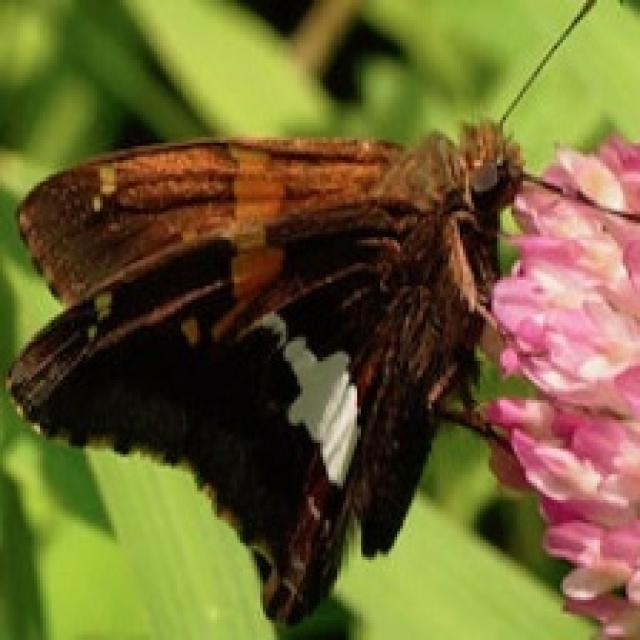butterfly: (3, 0, 637, 629)
